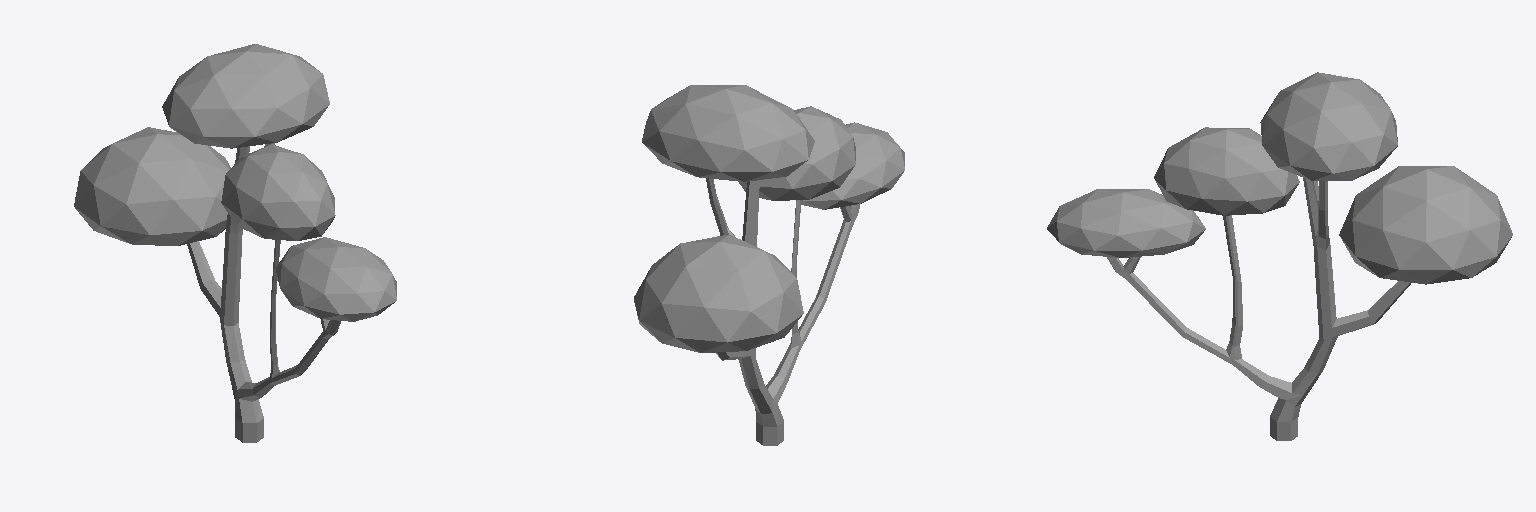
Rendered from Tree4.obj.
3 views of the same model, side by side, from view 1: azimuth 30°, elevation 25°; view 2: azimuth 150°, elevation 25°; view 3: azimuth 270°, elevation 25° (orthographic).
Parts seen in each view (by area): view 1: Cylinder.002_Cylinder.003; view 2: Cylinder.002_Cylinder.003; view 3: Cylinder.002_Cylinder.003.
Boxes of the visible parts, x1=… form: Cylinder.002_Cylinder.003: x1=74, y1=44, x2=396, y2=442; Cylinder.002_Cylinder.003: x1=634, y1=85, x2=904, y2=445; Cylinder.002_Cylinder.003: x1=1047, y1=72, x2=1512, y2=440.
Bounding box in the file's own units: 1.7 × 3.08 × 3.59.